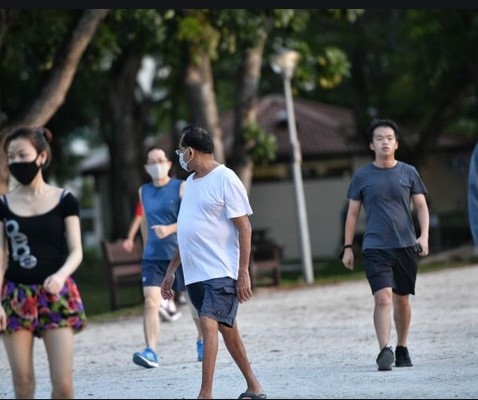face_no_mask: (370, 127, 398, 155)
face_with_mask: (7, 139, 48, 184), (179, 128, 215, 173), (144, 148, 172, 181)
